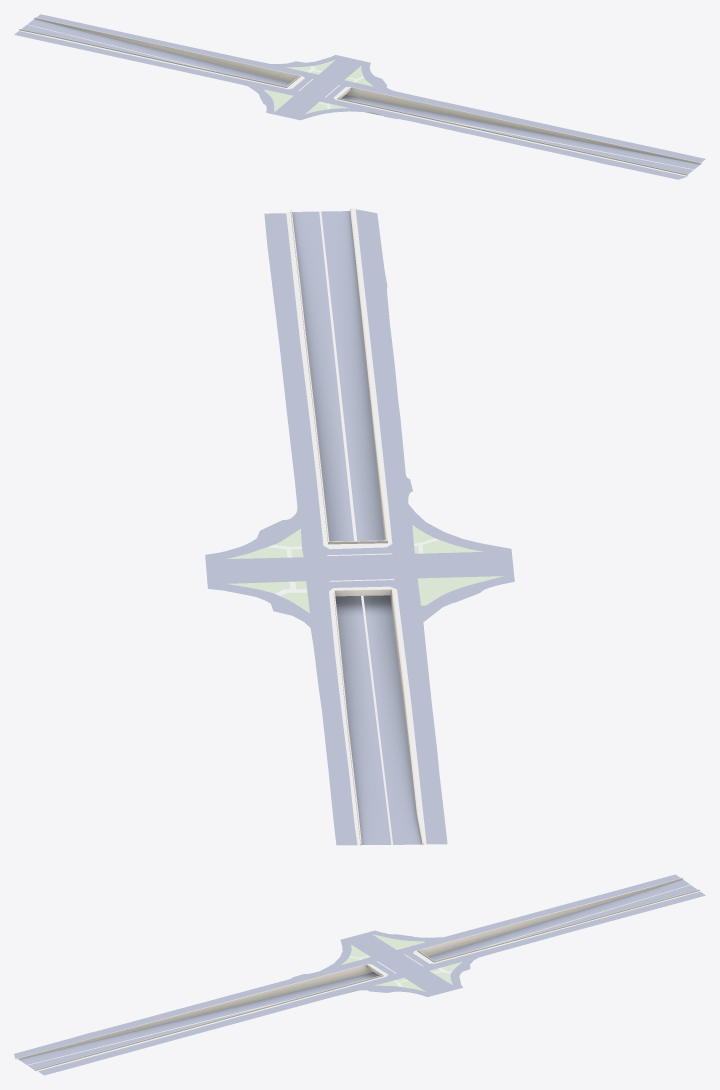
Rendered from Saina-Abay.glb.
3 renders of one model, top to bottom at view 1: azimuth 30°, elevation 25°; view 2: azimuth 150°, elevation 25°; view 3: azimuth 270°, elevation 25°, orthographic. The views are drawn at different scales.
Visible parts, largest first — view 1: group_4, group_1, group_5.002, group_6.004; view 2: group_4, group_5.002, group_1, group_6.004; view 3: group_4, group_1, group_5.002, group_6.004.
Part boxes in pixels (bbox=[...]): group_4: bbox=[14, 14, 705, 179]; group_1: bbox=[19, 17, 701, 175]; group_5.002: bbox=[19, 24, 702, 176]; group_6.004: bbox=[264, 59, 373, 114]; group_4: bbox=[205, 209, 514, 845]; group_5.002: bbox=[267, 208, 438, 845]; group_1: bbox=[290, 208, 423, 845]; group_6.004: bbox=[226, 525, 503, 613]; group_4: bbox=[14, 874, 705, 1075]; group_1: bbox=[18, 877, 699, 1070]; group_5.002: bbox=[15, 885, 700, 1071]; group_6.004: bbox=[341, 934, 462, 991].
Bounding box in the file's own units: 358 × 8 × 521.
Materials: 4 (2 with a texture image).
